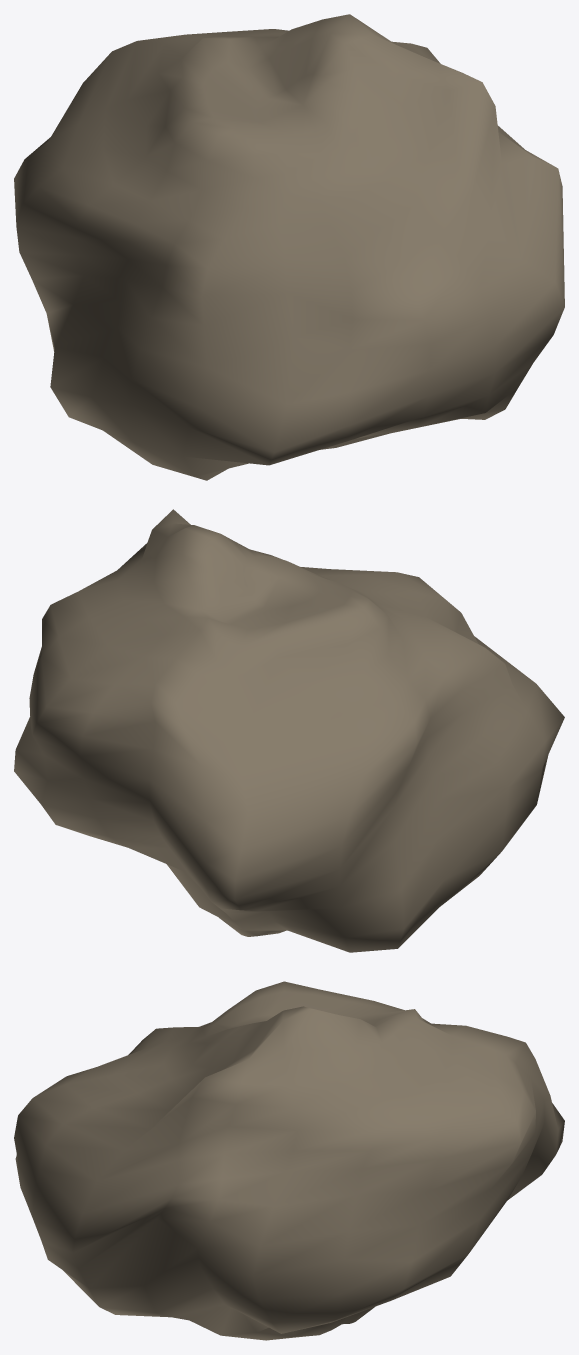
The model's file is brownMeteorite.fbx.
The picture shows the model from 3 angles, top to bottom: view 1: azimuth 30°, elevation 25°; view 2: azimuth 150°, elevation 25°; view 3: azimuth 270°, elevation 25°; orthographic projection. The views are drawn at different scales.
Parts seen in each view (by area): view 1: pasted__pSphere1; view 2: pasted__pSphere1; view 3: pasted__pSphere1.
Part boxes in pixels (x1,y1,x2,y2): pasted__pSphere1: (14, 14, 564, 480); pasted__pSphere1: (14, 509, 564, 952); pasted__pSphere1: (14, 981, 564, 1340).
Bounding box in the file's own units: 1.98 × 1.73 × 2.39.
